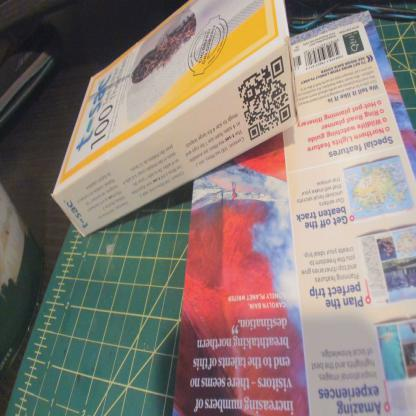barcode: (303, 40, 344, 65), (290, 52, 304, 72)
qr: (230, 56, 294, 143)
